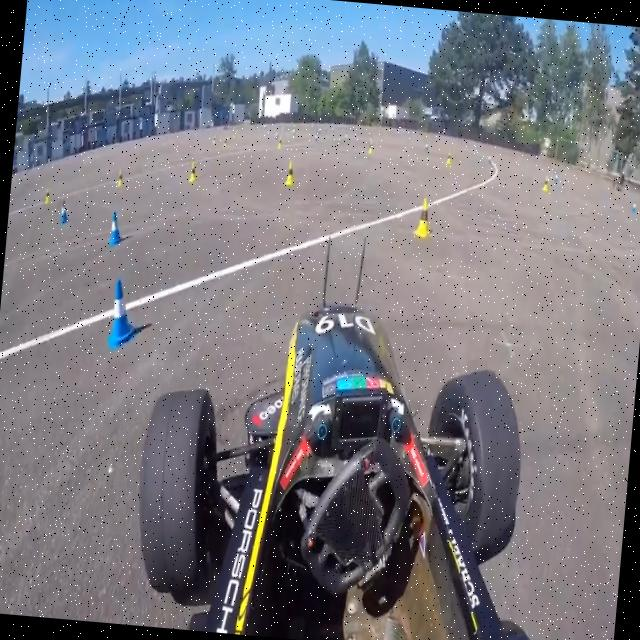blue_cone: (105, 277, 141, 353), (108, 208, 124, 248), (59, 200, 70, 224)
yellow_cone: (412, 196, 436, 239), (282, 160, 296, 187), (188, 160, 198, 184)
